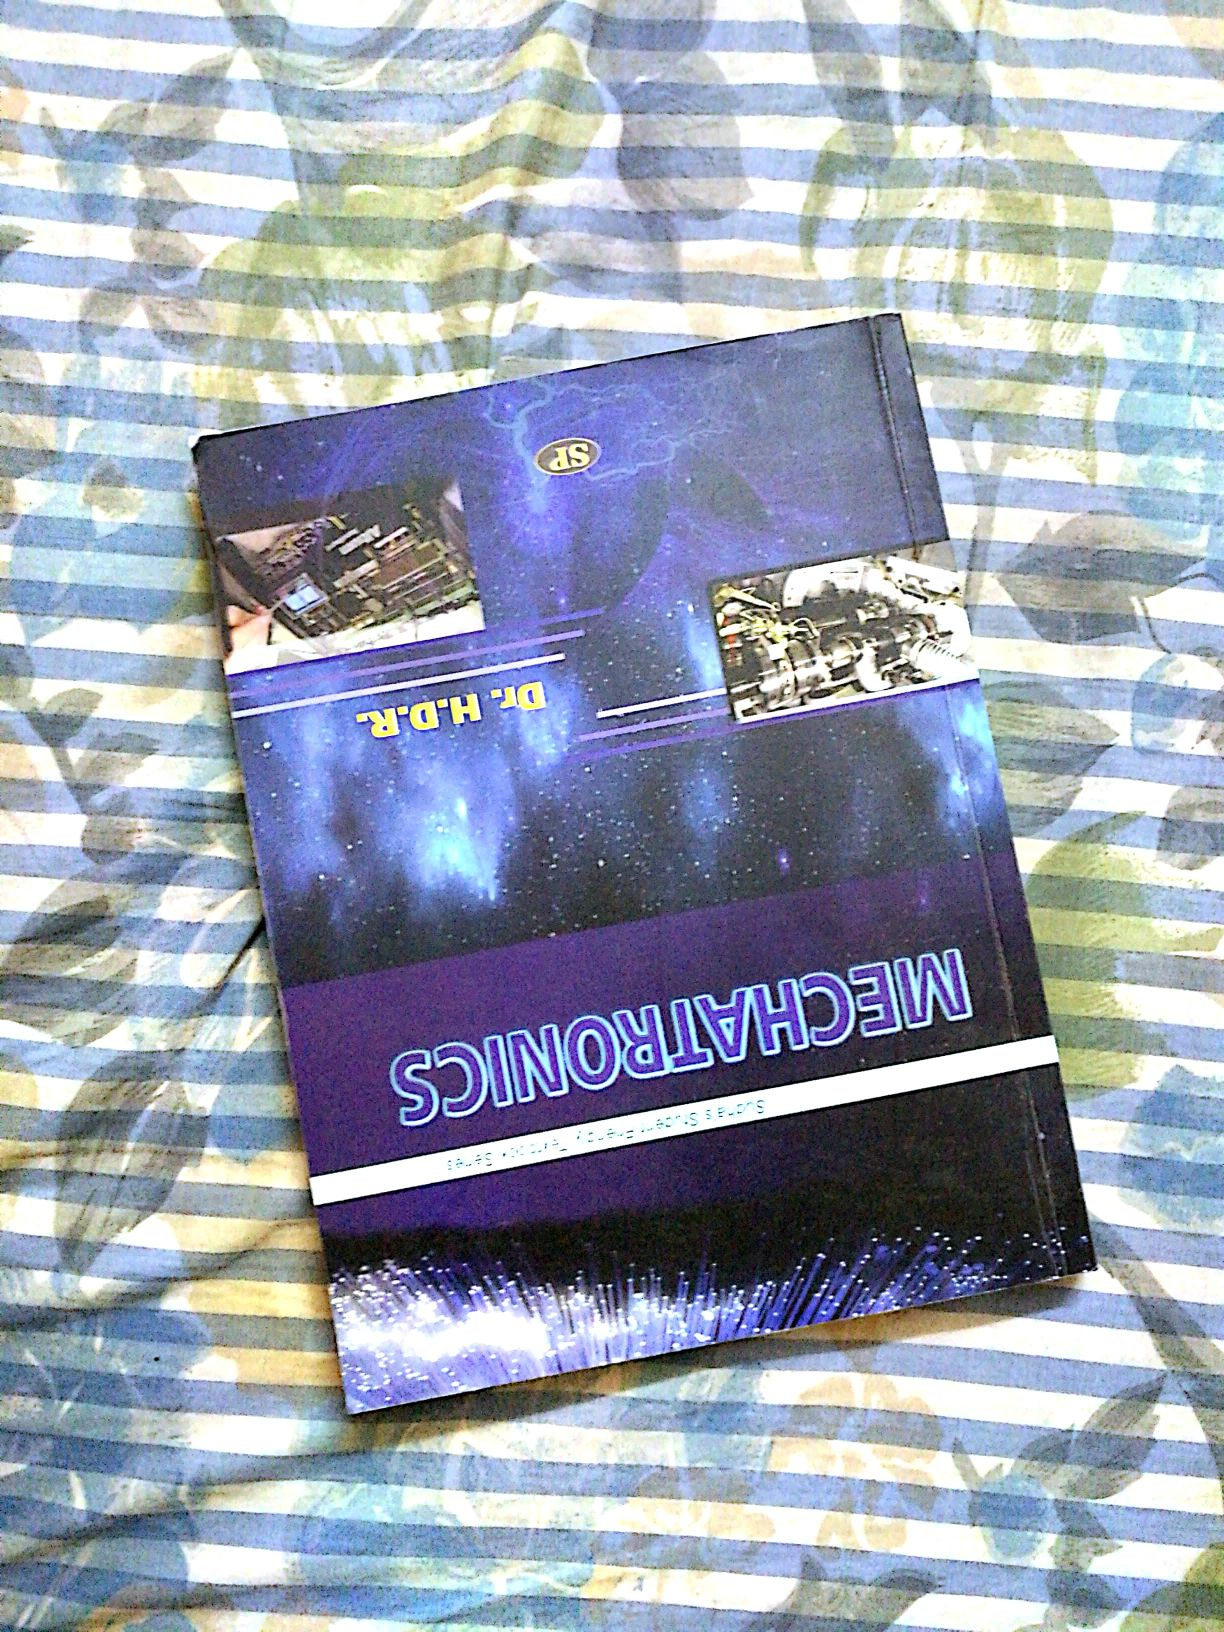mechatronics: (181, 308, 1115, 1381)
